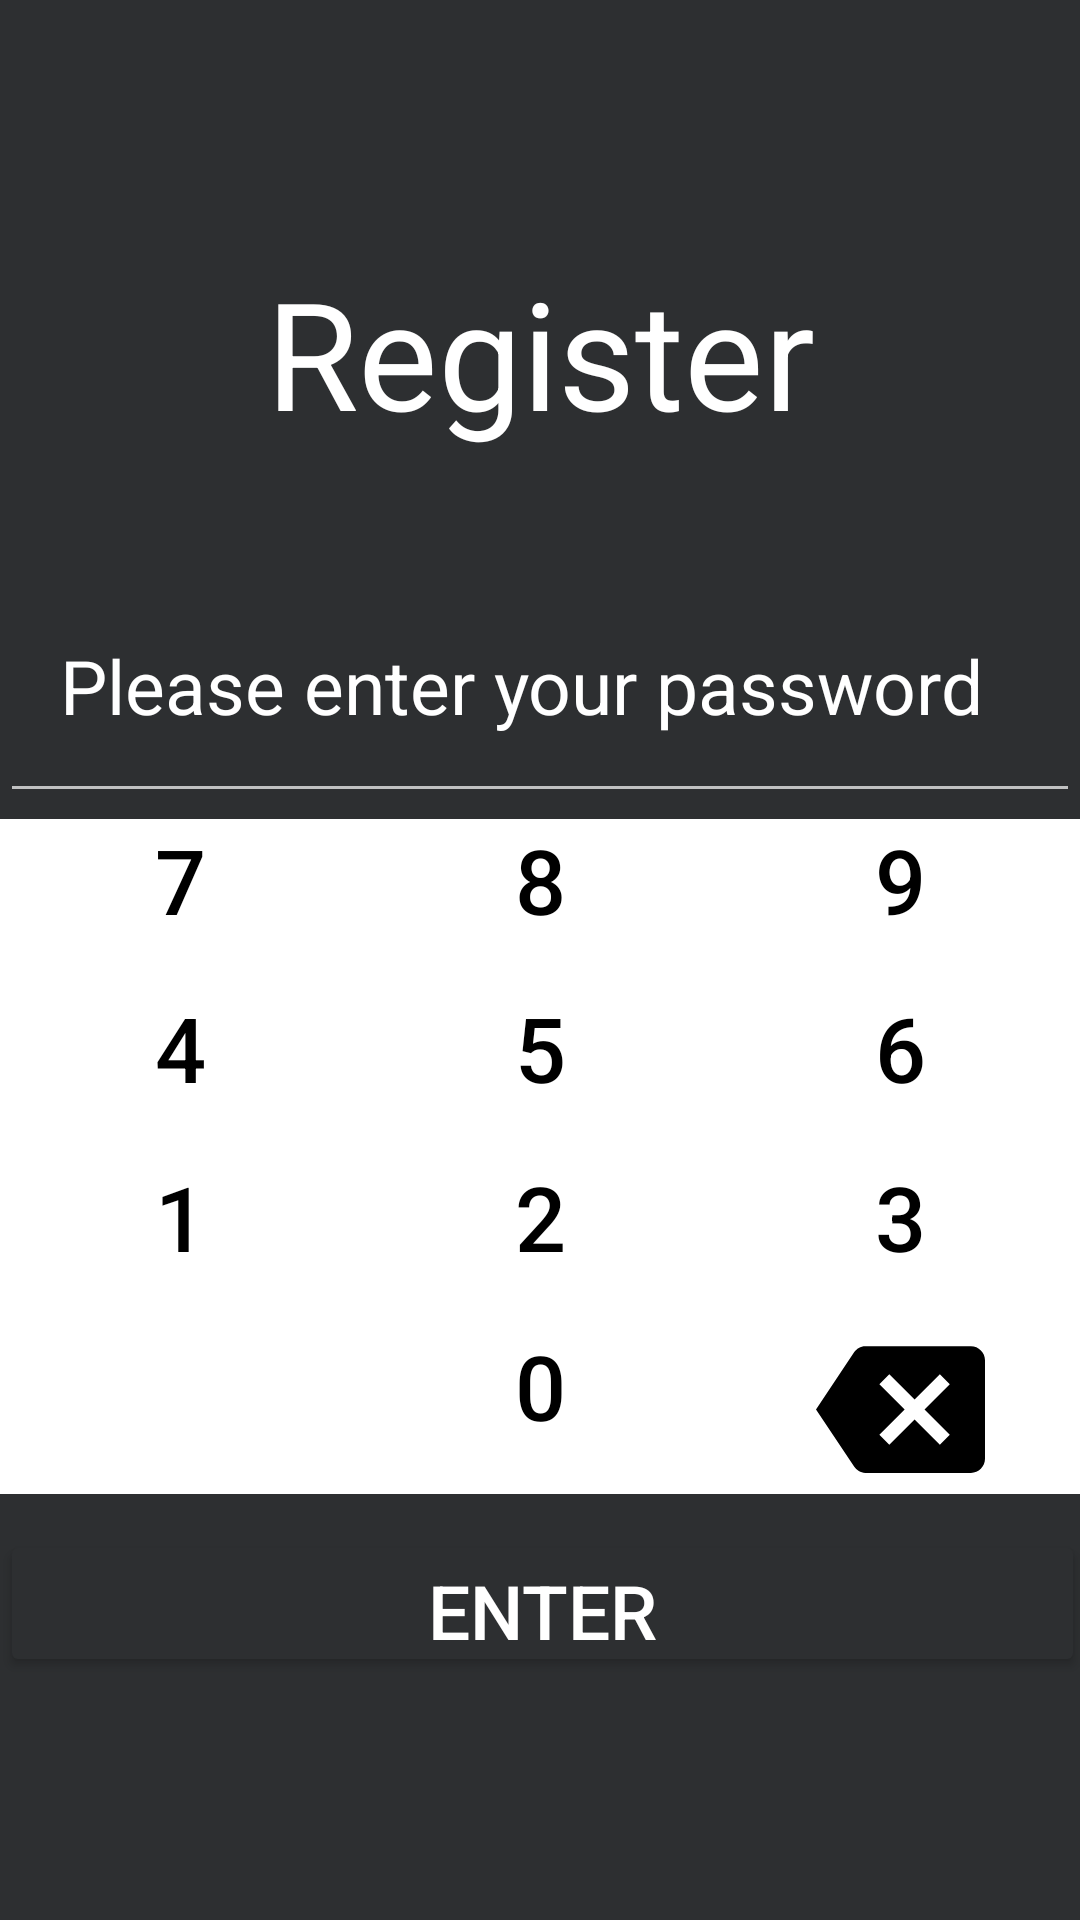

Point at icon controls on the screen. Image size 1080 × 1920, points as (x=x, y=y).
backspace: (x=900, y=1409)
